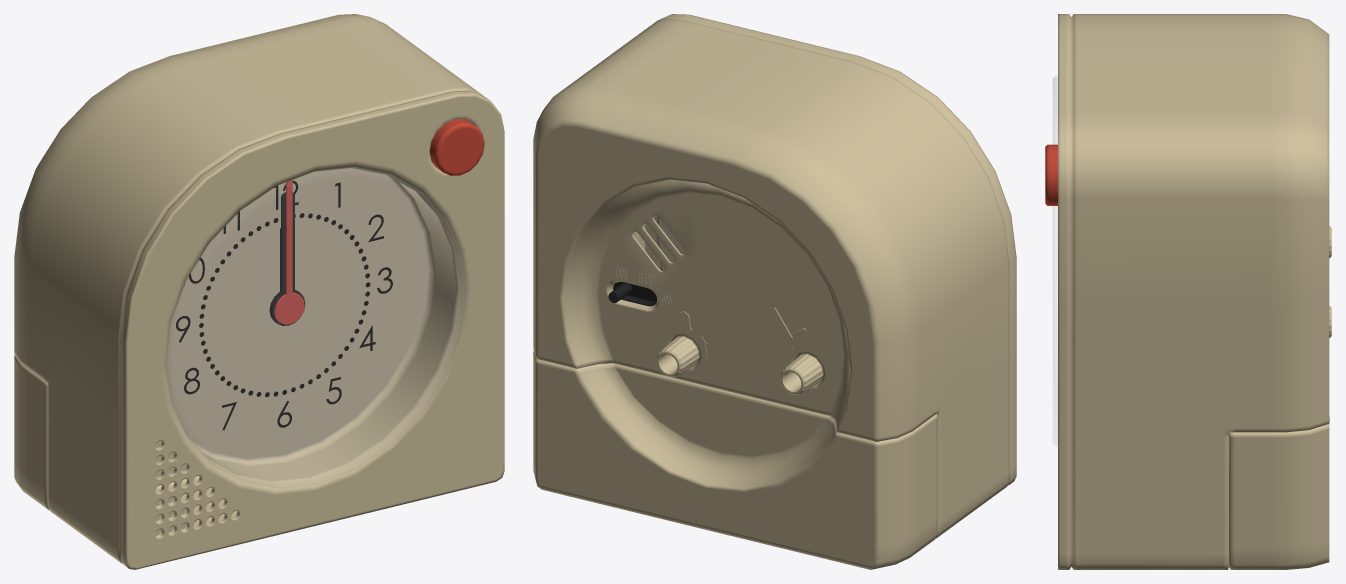
File: clock.glb
The picture shows the model from 3 angles, left to right: view 1: azimuth 30°, elevation 25°; view 2: azimuth 150°, elevation 25°; view 3: azimuth 270°, elevation 25°; orthographic projection. The views are drawn at different scales.
Parts seen in each view (by area): view 1: TJinma_Mainclock, Numbers, TJinma_Button, Second_Hand, Minute_Hand, Glass; view 2: TJinma_Mainclock, Rotat_Alarm, Rotat time; view 3: TJinma_Mainclock, Glass, TJinma_Button.
Boxes of the visible parts, box(x1,y1,x2,y2) form: TJinma_Mainclock: box(14, 14, 504, 569); Numbers: box(176, 180, 392, 430); TJinma_Button: box(429, 119, 484, 175); Second_Hand: box(274, 180, 304, 324); Minute_Hand: box(270, 192, 305, 325); Glass: box(214, 192, 465, 488); TJinma_Mainclock: box(533, 14, 1016, 569); Rotat_Alarm: box(656, 336, 699, 377); Rotat time: box(780, 354, 822, 394); TJinma_Mainclock: box(1058, 14, 1329, 569); Glass: box(1053, 76, 1057, 446); TJinma_Button: box(1045, 144, 1057, 205).
Size of the model in its own units: 2.56 by 2.56 by 1.56.
